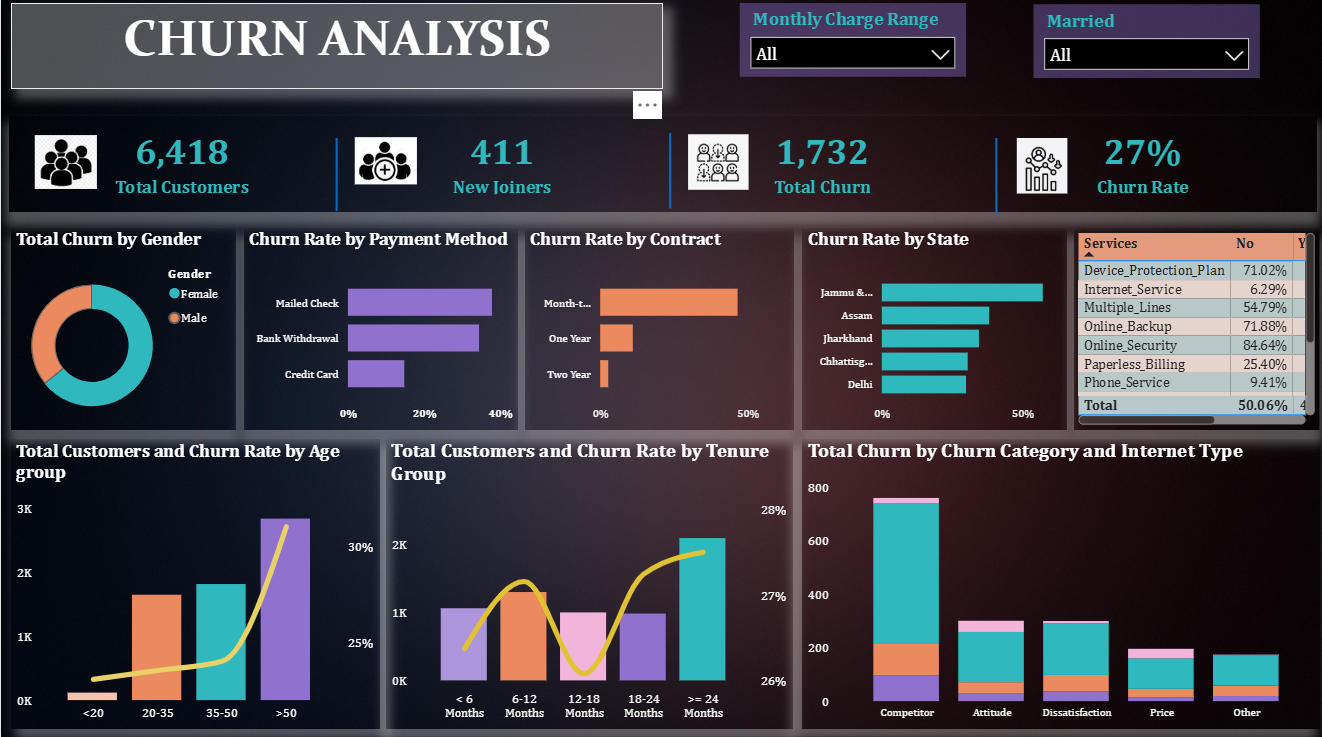

Layout of this report page (visuals, bound fields, positions):
{"tool":"powerbi","page":{"name":"Churn Analysis","canvas":[1280,720],"ordinal":0},"visuals":[{"type":"textbox","box":[10.1,10.1,629.1,82.3],"z":0},{"type":"cardVisual","fields":{"Data":["tbl_Measures.Total Customers","tbl_Measures.New Joiners","tbl_Measures.Total Churn","tbl_Measures.Churn Rate"]},"box":[7.6,117.7,1263.3,93.7],"z":1000},{"type":"image","box":[974.7,140.5,60.3,53.8],"z":2000},{"type":"image","box":[32.9,136.7,60.3,53.8],"z":3000},{"type":"shape","box":[313.9,140.5,20.5,70.5],"z":4000},{"type":"shape","box":[954.4,140.5,12.8,73.1],"z":5000},{"type":"shape","box":[639.2,135.4,12.8,73.1],"z":6000},{"type":"image","box":[341.8,135.4,60.3,53.8],"z":7000},{"type":"image","box":[662,136.7,60.3,53.8],"z":8000},{"type":"donutChart","fields":{"Y":["tbl_Measures.Total Churn"],"Category":["prod_churn.Gender"]},"box":[10.1,226.6,216.8,194.9],"z":9000},{"type":"lineStackedColumnComboChart","fields":{"Category":["prod_churn (2).Age group"],"Y":["tbl_Measures.Total Customers"],"Y2":["tbl_Measures.Churn Rate"]},"box":[10.1,430.4,355.7,279.7],"z":10000},{"type":"clusteredBarChart","title":"Churn Rate by Payment Method","fields":{"Category":["prod_churn.Payment_Method"],"Y":["tbl_Measures.Churn Rate"]},"box":[234.2,226.6,265,194.9],"z":11000},{"type":"barChart","fields":{"Category":["prod_churn.Contract"],"Y":["tbl_Measures.Churn Rate"]},"box":[505.1,226.6,260,194.9],"z":12000},{"type":"lineStackedColumnComboChart","fields":{"Category":["Mapping_TenureGrp.Tenure Group"],"Y":["tbl_Measures.Total Customers"],"Y2":["tbl_Measures.Churn Rate"]},"box":[372.2,430.4,392.4,279.7],"z":13000},{"type":"barChart","fields":{"Category":["prod_churn.State"],"Y":["tbl_Measures.Churn Rate"]},"box":[773.4,226.6,256,195.1],"z":14000},{"type":"lineStackedColumnComboChart","title":"Total Churn by Churn Category and Internet Type","fields":{"Category":["prod_churn.Churn_Category"],"Series":["prod_churn.Internet_Type"],"Y":["tbl_Measures.Total Churn"]},"box":[773.4,430.4,500,279.7],"z":15000},{"type":"pivotTable","fields":{"Rows":["prod_Services.Services"],"Columns":["prod_Services.Status"],"Values":["Sum(prod_Services.Churn_Status)"]},"box":[1035.4,226.6,238,194.9],"z":17000},{"type":"slicer","fields":{"Values":["prod_churn.Monthly_Charge_Status"]},"box":[713.6,9.6,218.2,71.4],"z":18000},{"type":"slicer","fields":{"Values":["prod_churn.Married"]},"box":[996.2,11,218.2,71.4],"z":19000}]}

Visuals, with their boxes in screenshot pixels (x1, y1, x2, y2), scaled from the page's 1280x720 canvas onto the 1322x737 screenshot:
textbox: pyautogui.locateOnScreen(10, 10, 660, 95)
cardVisual - tbl_Measures.Total Customers x tbl_Measures.New Joiners: pyautogui.locateOnScreen(8, 120, 1313, 216)
image: pyautogui.locateOnScreen(1007, 144, 1069, 199)
image: pyautogui.locateOnScreen(34, 140, 96, 195)
shape: pyautogui.locateOnScreen(324, 144, 345, 216)
shape: pyautogui.locateOnScreen(986, 144, 999, 219)
shape: pyautogui.locateOnScreen(660, 139, 673, 213)
image: pyautogui.locateOnScreen(353, 139, 415, 194)
image: pyautogui.locateOnScreen(684, 140, 746, 195)
donutChart - tbl_Measures.Total Churn x prod_churn.Gender: pyautogui.locateOnScreen(10, 232, 234, 431)
lineStackedColumnComboChart - prod_churn (2).Age group x tbl_Measures.Total Customers: pyautogui.locateOnScreen(10, 441, 378, 727)
"Churn Rate by Payment Method" clusteredBarChart: pyautogui.locateOnScreen(242, 232, 516, 431)
barChart - prod_churn.Contract x tbl_Measures.Churn Rate: pyautogui.locateOnScreen(522, 232, 790, 431)
lineStackedColumnComboChart - Mapping_TenureGrp.Tenure Group x tbl_Measures.Total Customers: pyautogui.locateOnScreen(384, 441, 790, 727)
barChart - prod_churn.State x tbl_Measures.Churn Rate: pyautogui.locateOnScreen(799, 232, 1063, 432)
"Total Churn by Churn Category and Internet Type" lineStackedColumnComboChart: pyautogui.locateOnScreen(799, 441, 1315, 727)
pivotTable - prod_Services.Services x prod_Services.Status: pyautogui.locateOnScreen(1069, 232, 1315, 431)
slicer - prod_churn.Monthly_Charge_Status: pyautogui.locateOnScreen(737, 10, 962, 83)
slicer - prod_churn.Married: pyautogui.locateOnScreen(1029, 11, 1254, 84)
